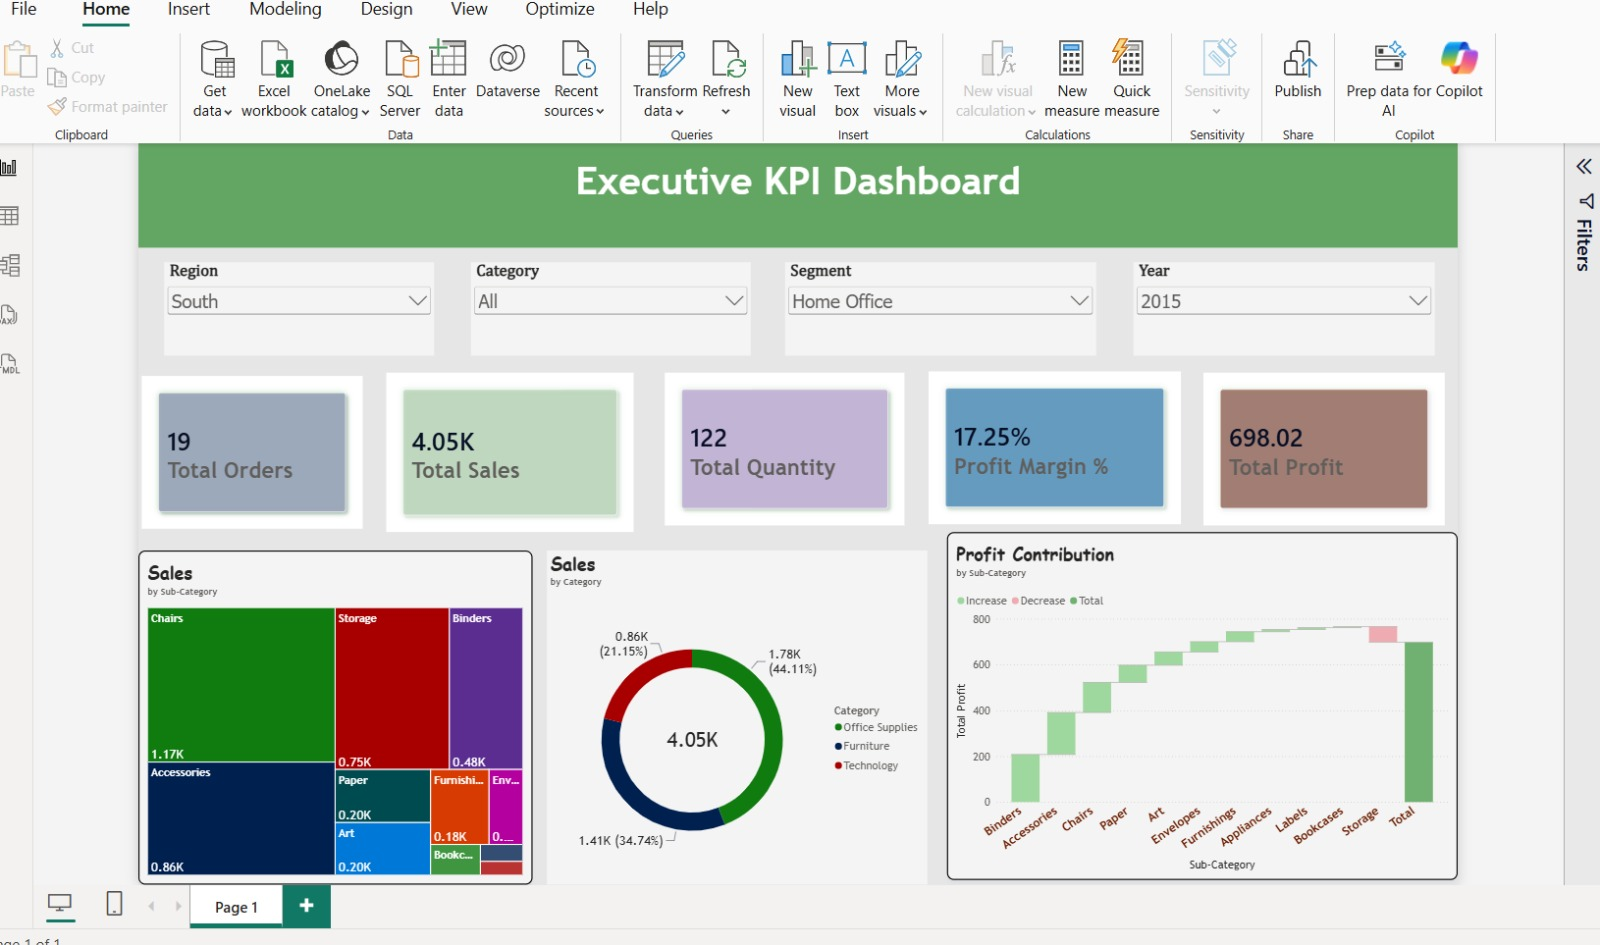

Layout of this report page (visuals, bound fields, positions):
{"tool":"powerbi","page":{"name":"Page 1","canvas":[1920,1080],"ordinal":0},"visuals":[{"type":"cardVisual","fields":{"Data":["Cleaned_Data.Total Sales"]},"box":[360.2,333.4,360.2,232.6],"z":0},{"type":"cardVisual","fields":{"Data":["Cleaned_Data.Total Profit"]},"box":[1549.9,333.4,352,222.3],"z":1000},{"type":"cardVisual","fields":{"Data":["Cleaned_Data.Total Orders"]},"box":[0,333.4,331.4,232.6],"z":2000},{"type":"cardVisual","fields":{"Data":["Cleaned_Data.Total Qunatity"]},"box":[765.7,333.4,349.9,222.3],"z":3000},{"type":"cardVisual","fields":{"Data":["Cleaned_Data.Profit Margin %"]},"box":[1149.1,333,367.4,222.6],"z":4000},{"type":"donutChart","title":" Sales","fields":{"Category":["Cleaned_Data.Category"],"Y":["Cleaned_Data.Total Sales"]},"box":[595.4,593.6,553.8,486.8],"z":5000},{"type":"treemap","title":" Sales","fields":{"Group":["Cleaned_Data.Sub-Category"],"Values":["Cleaned_Data.Total Sales"]},"box":[0,593.6,573.7,486.8],"z":6000},{"type":"waterfallChart","title":" Profit Contribution","fields":{"Category":["Cleaned_Data.Sub-Category"],"Y":["Cleaned_Data.Total Profit"]},"box":[1177.4,566,743.1,506.3],"z":7000},{"type":"slicer","fields":{"Values":["Cleaned_Data.Region"]},"box":[37,172.9,393.1,135.8],"z":8000},{"type":"slicer","fields":{"Values":["Cleaned_Data.Category"]},"box":[483.7,172.9,407.5,135.8],"z":9000},{"type":"slicer","fields":{"Values":["Cleaned_Data.Segment"]},"box":[940.7,172.9,452.8,135.8],"z":10000},{"type":"slicer","fields":{"Values":["Cleaned_Data.Order Date.Variation.Date Hierarchy.Year"]},"box":[1449.1,172.9,438.4,135.8],"z":11000},{"type":"textbox","box":[0,0,1920.4,152.3],"z":12000}]}

Visuals, with their boxes on the page's 1920x1080 design canvas (x1, y1, x2, y2). These are canvas units, not pixel positions in the 1600x945 screenshot, which may show the page scaled, cropped or inside an application window:
cardVisual - Cleaned_Data.Total Sales: (x1=360, y1=333, x2=720, y2=566)
cardVisual - Cleaned_Data.Total Profit: (x1=1550, y1=333, x2=1902, y2=556)
cardVisual - Cleaned_Data.Total Orders: (x1=0, y1=333, x2=331, y2=566)
cardVisual - Cleaned_Data.Total Qunatity: (x1=766, y1=333, x2=1116, y2=556)
cardVisual - Cleaned_Data.Profit Margin %: (x1=1149, y1=333, x2=1516, y2=556)
" Sales" donutChart: (x1=595, y1=594, x2=1149, y2=1080)
" Sales" treemap: (x1=0, y1=594, x2=574, y2=1080)
" Profit Contribution" waterfallChart: (x1=1177, y1=566, x2=1920, y2=1072)
slicer - Cleaned_Data.Region: (x1=37, y1=173, x2=430, y2=309)
slicer - Cleaned_Data.Category: (x1=484, y1=173, x2=891, y2=309)
slicer - Cleaned_Data.Segment: (x1=941, y1=173, x2=1394, y2=309)
slicer - Cleaned_Data.Order Date.Variation.Date Hierarchy.Year: (x1=1449, y1=173, x2=1888, y2=309)
textbox: (x1=0, y1=0, x2=1920, y2=152)
